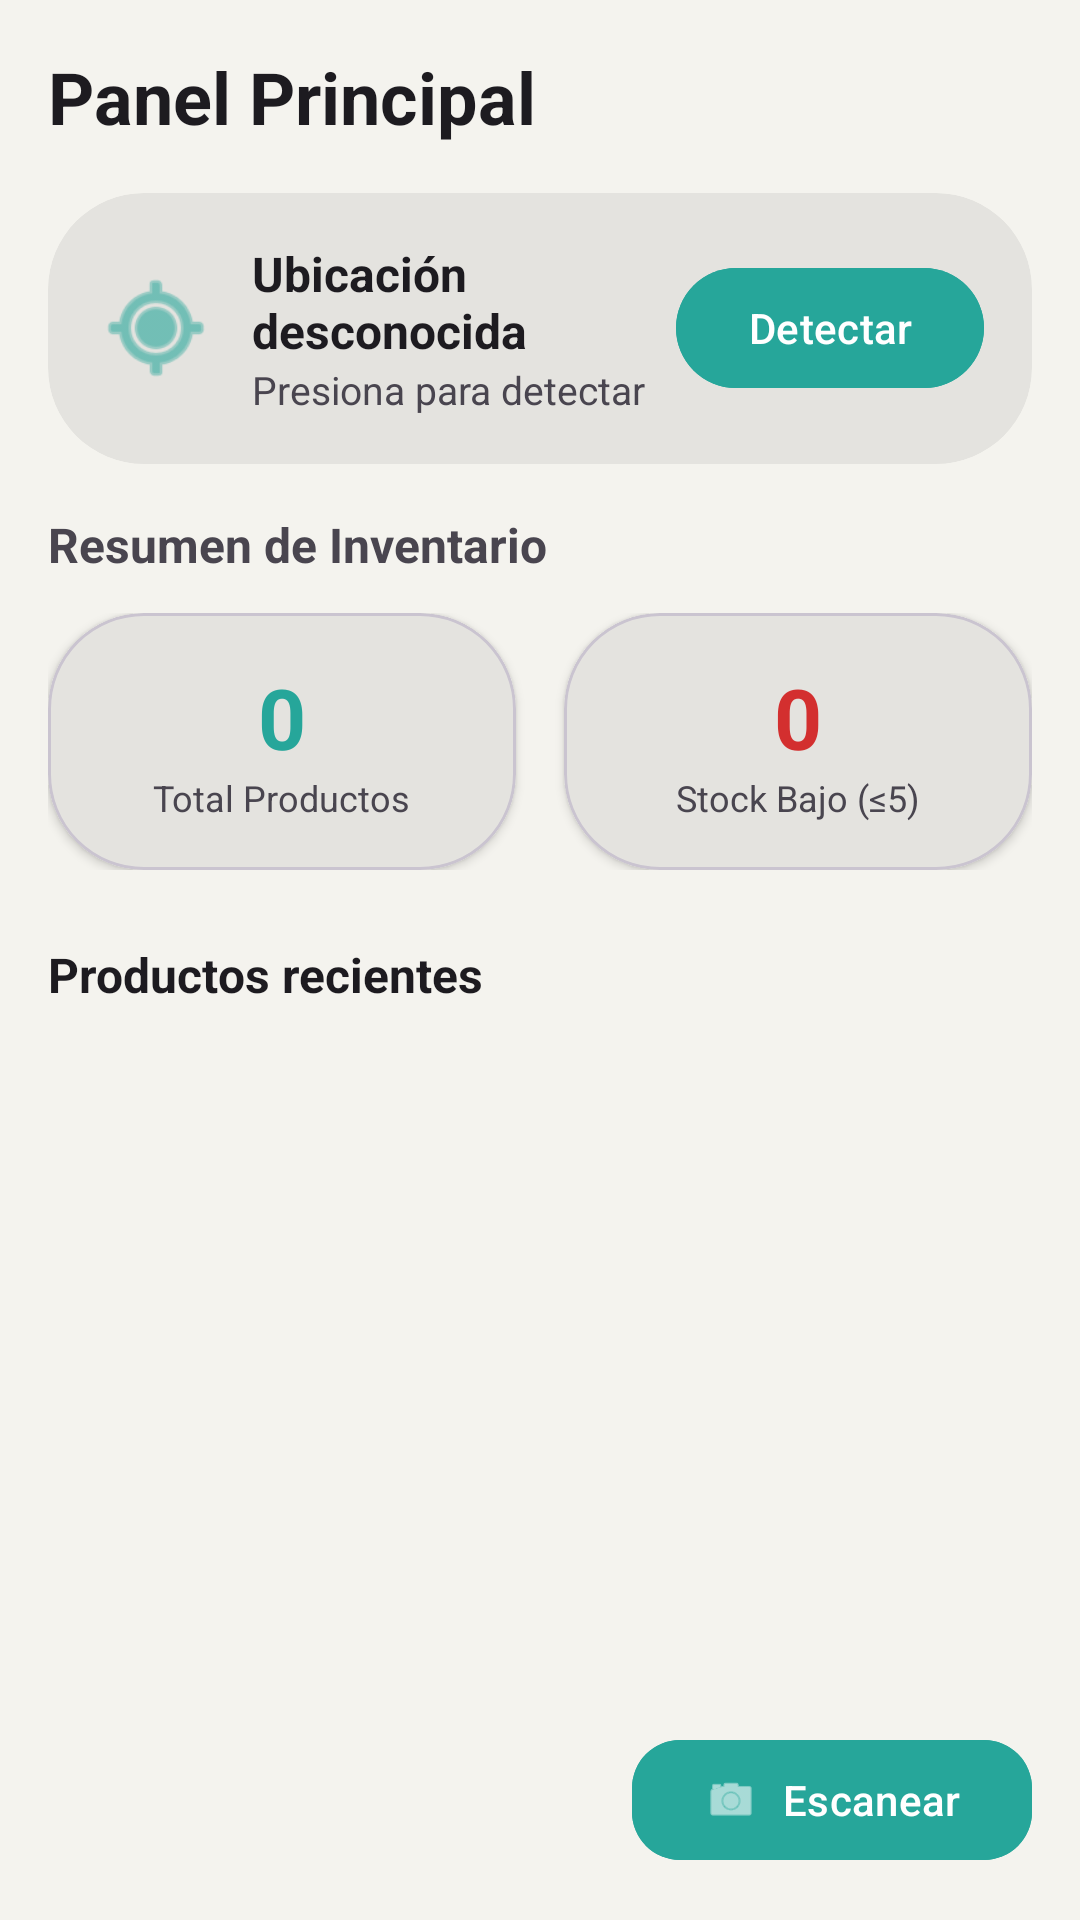

Icon bounding boxes for this 1080×1920 phone screenshot, format bbox=[x1, y1, x2, y2]:
mylocation: bbox=[108, 280, 204, 376]
